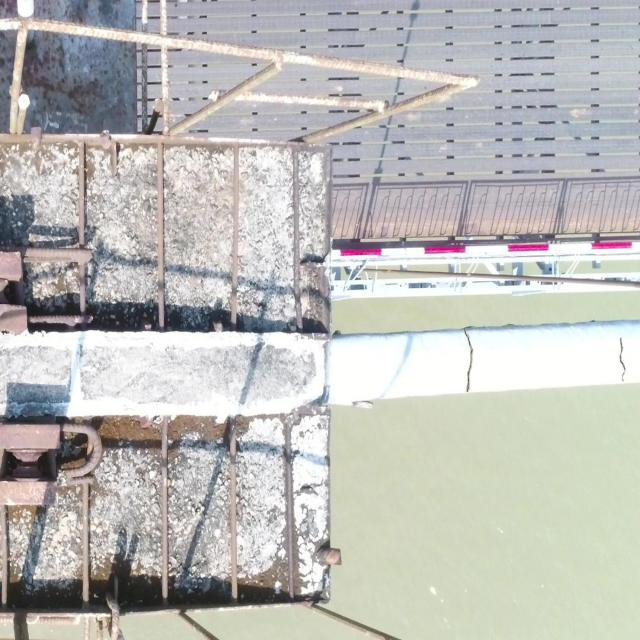crack: (464, 329, 474, 393), (618, 338, 626, 382)
